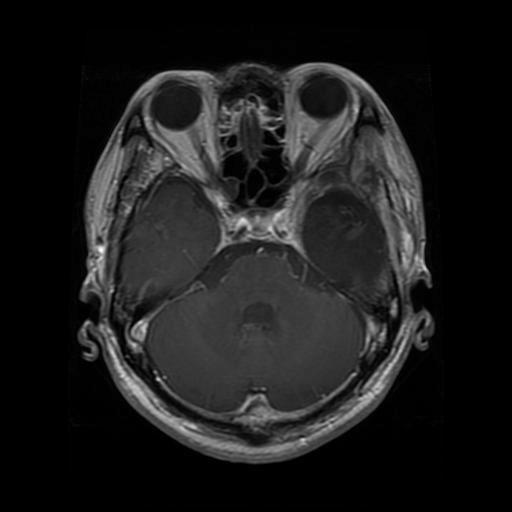Tumour-Glioma: (301, 202, 378, 288)
